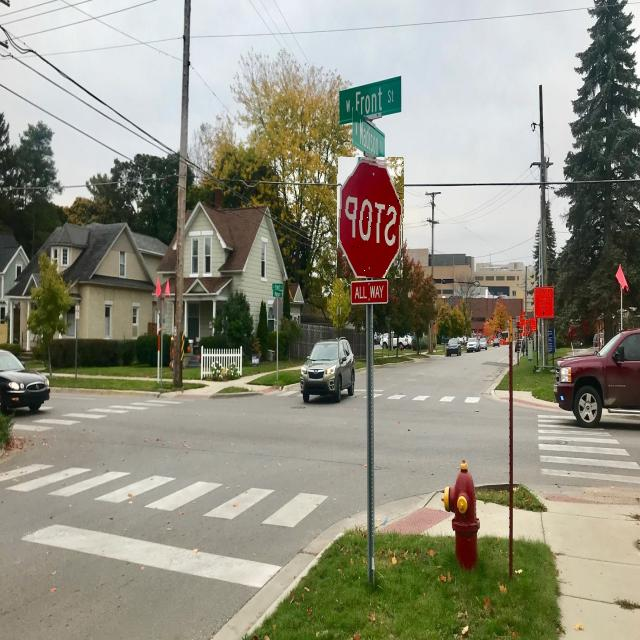stop: (337, 157, 404, 278)
